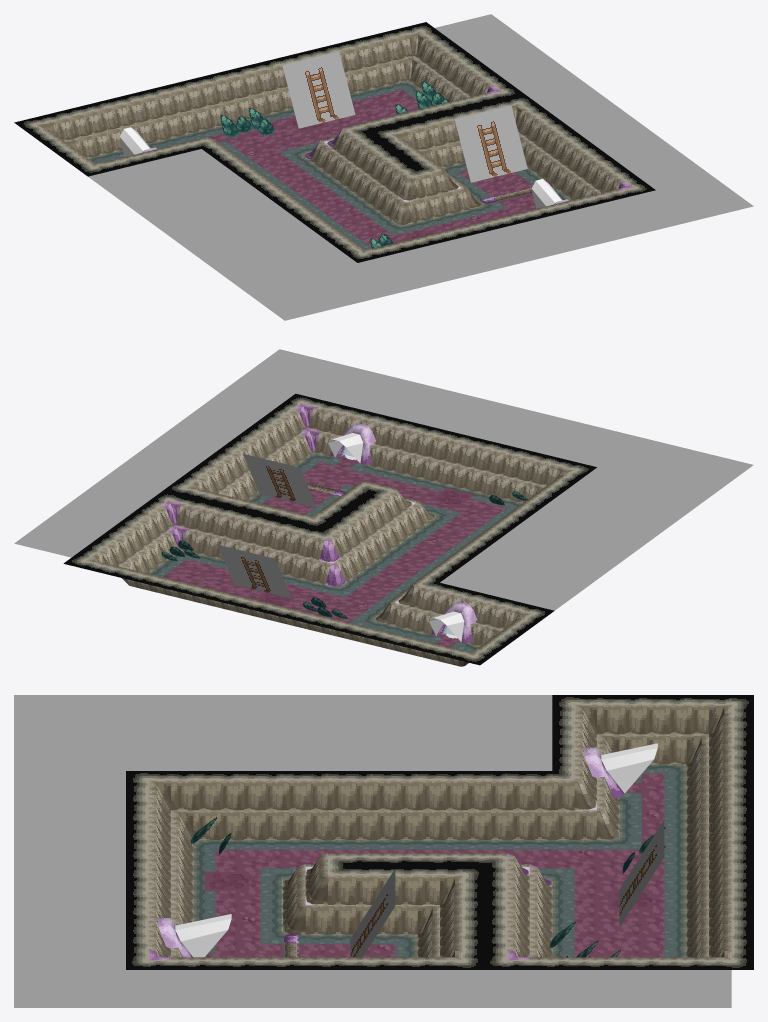
Rendered from map.dae.
3 views of the same model, one above another, from view 1: azimuth 30°, elevation 25°; view 2: azimuth 150°, elevation 25°; view 3: azimuth 270°, elevation 25° (orthographic). The views are drawn at different scales.
Visible parts, largest first — view 1: m_dun0201_00_00c, dun_stairup, dun_stairup.001; view 2: m_dun0201_00_00c, dun_stairup, dun_stairup.001; view 3: m_dun0201_00_00c, dun_stairup, dun_stairup.001.
Boxes of the visible parts, x1,y1,x2,y2 form: m_dun0201_00_00c: (14,14,753,320); dun_stairup: (282,51,355,128); dun_stairup.001: (454,105,527,182); m_dun0201_00_00c: (14,349,753,666); dun_stairup: (218,545,291,598); dun_stairup.001: (243,454,316,507); m_dun0201_00_00c: (14,695,753,1007); dun_stairup: (619,820,664,927); dun_stairup.001: (350,869,395,957).
Size of the model in its own units: 528 by 528 by 57.77.
